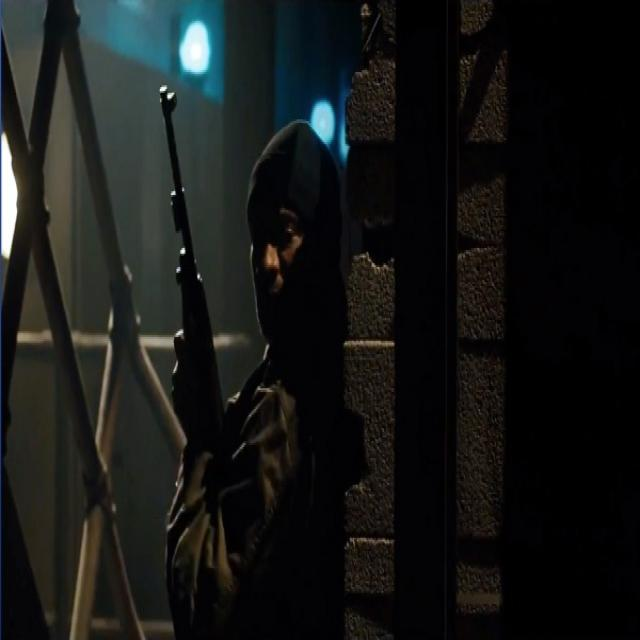rifle: (158, 80, 240, 481)
